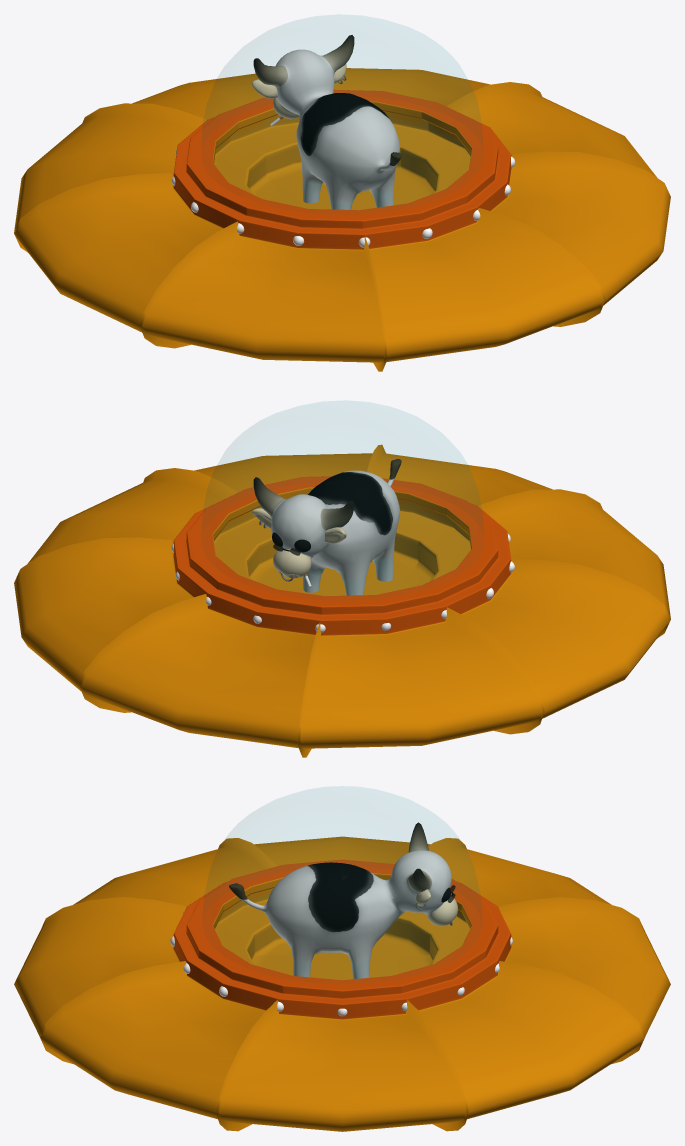
The model's file is UFO.fbx.
3 renders of one model, top to bottom at view 1: azimuth 30°, elevation 25°; view 2: azimuth 150°, elevation 25°; view 3: azimuth 270°, elevation 25°, orthographic.
Parts seen in each view (by area): view 1: Base, badBoyCow_cow; view 2: Base, badBoyCow_cow; view 3: Base, badBoyCow_cow.
Part boxes in pixels (box(x1,y1,x2,y2)): Base: box(14, 68, 670, 371); badBoyCow_cow: box(253, 35, 401, 209); Base: box(14, 444, 670, 757); badBoyCow_cow: box(253, 459, 401, 595); Base: box(14, 836, 670, 1131); badBoyCow_cow: box(229, 822, 457, 979).
Size of the model in its own units: 18.22 by 7.57 by 18.22.
